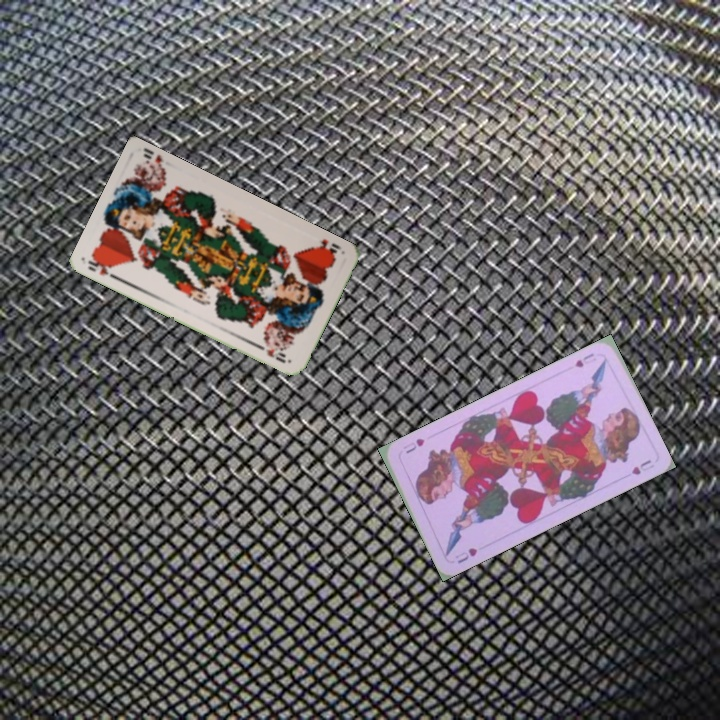HO: (84, 253, 122, 282), (312, 235, 344, 261)
HU: (451, 544, 480, 566), (571, 349, 597, 370)
